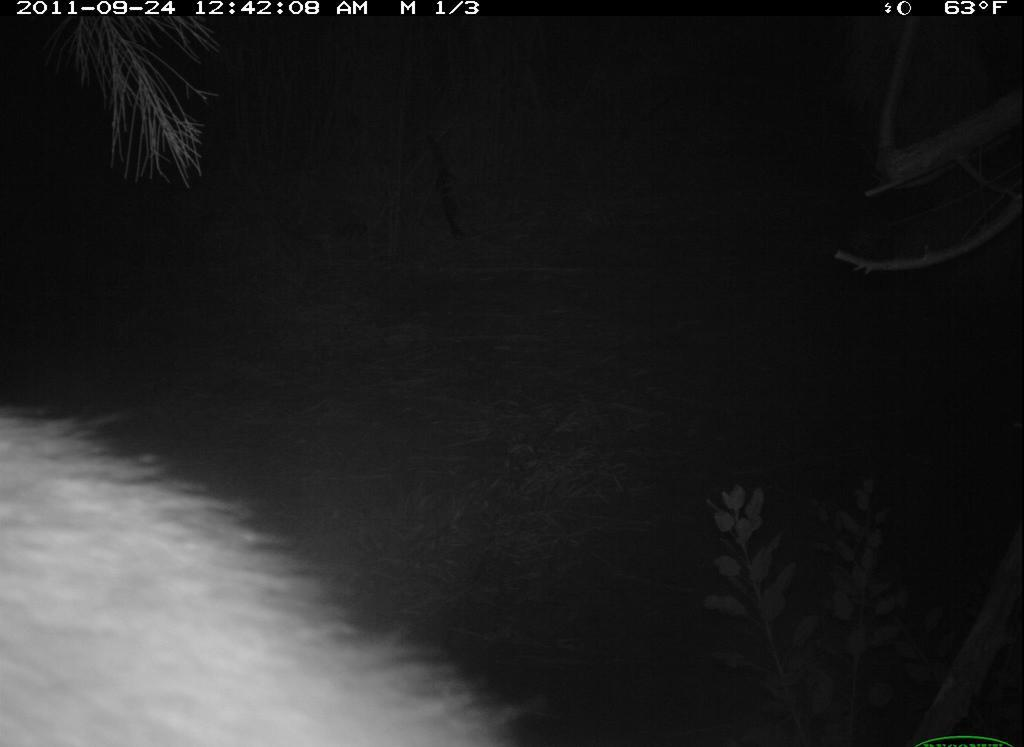raccoon: (2, 363, 548, 747)
